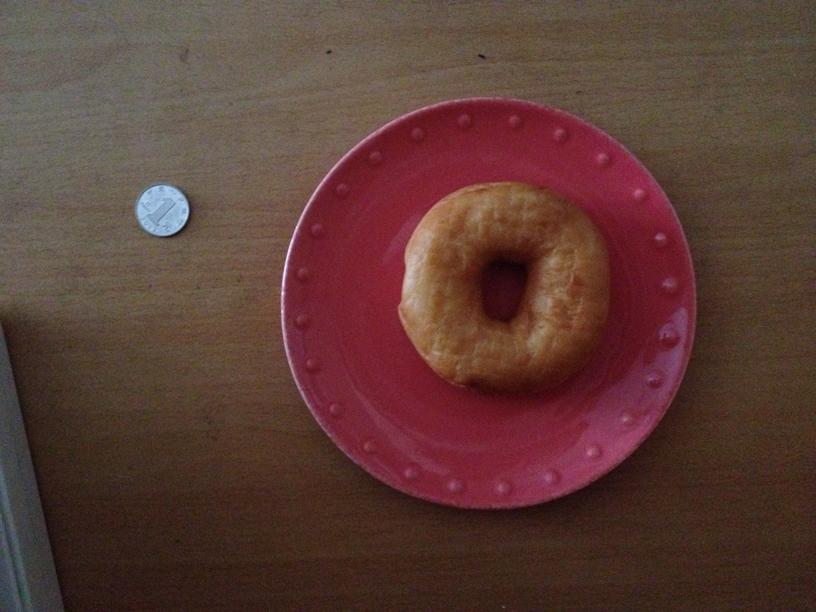coin: (133, 181, 189, 237)
doughnut: (395, 179, 611, 390)
